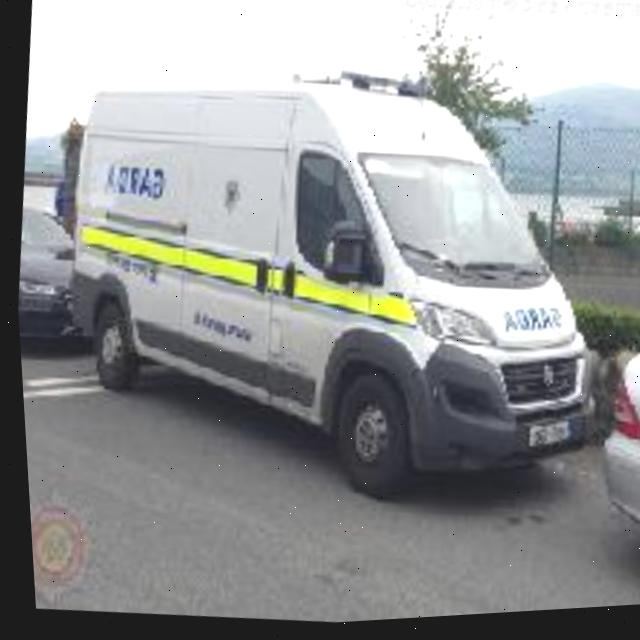emergency: (37, 33, 640, 532)
